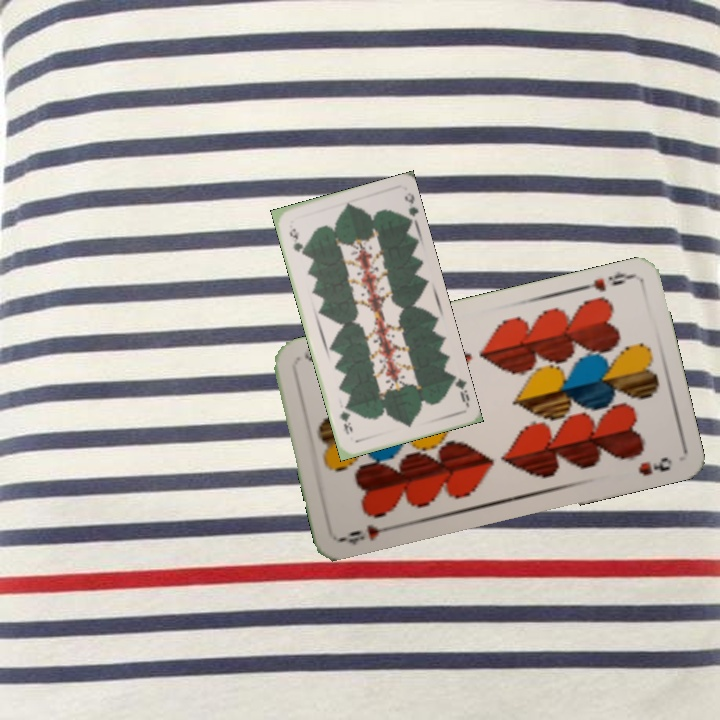G9: (445, 370, 472, 409), (285, 224, 306, 257)
H9: (338, 521, 397, 547), (576, 268, 635, 294)
